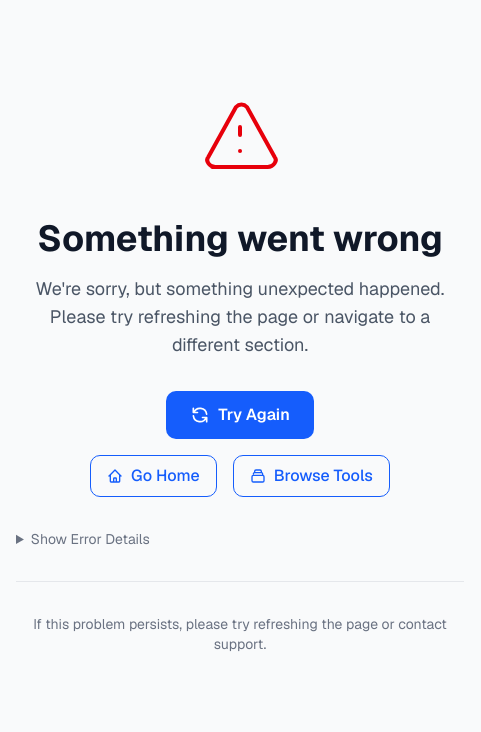
ErrorBoundary › shows error details when showDetails is true
The image size is (481, 732).
Click to expand details
Click the heading "Show Error Details".
click(90, 538)  # box [31, 530, 150, 548]
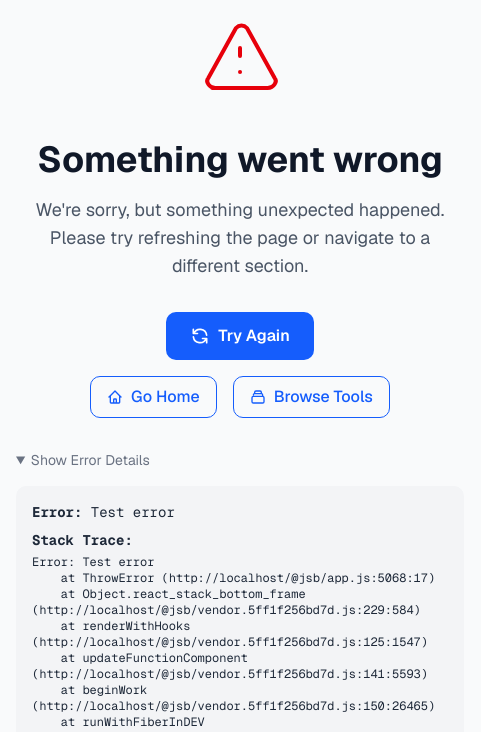
Expected: the text "Error:" is shown, [32, 503, 82, 521]
Expected: the text "Error: Test error" is shown, [32, 503, 175, 521]
